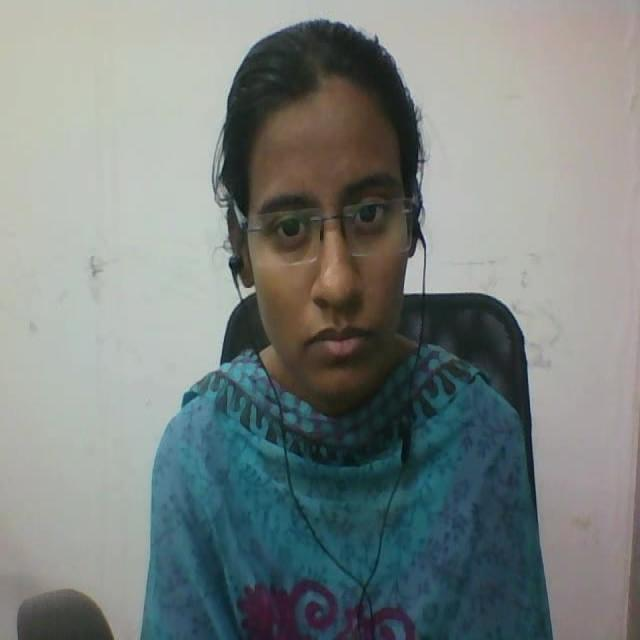Engaged: (190, 0, 444, 423)
